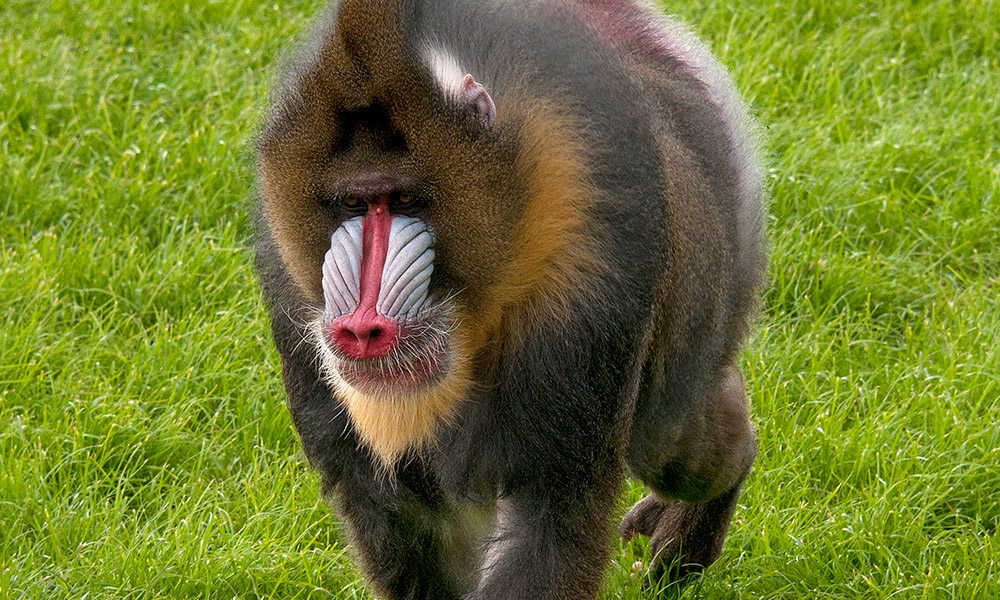Mandrill: (264, 22, 725, 533)
